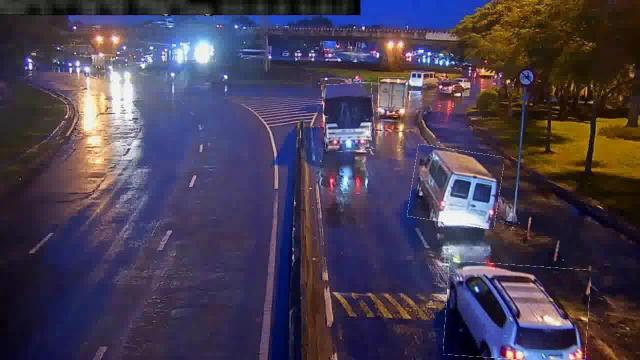Bus: (410, 148, 502, 226)
Car: (444, 263, 590, 359)
Truck: (324, 83, 374, 151), (379, 77, 405, 115)
